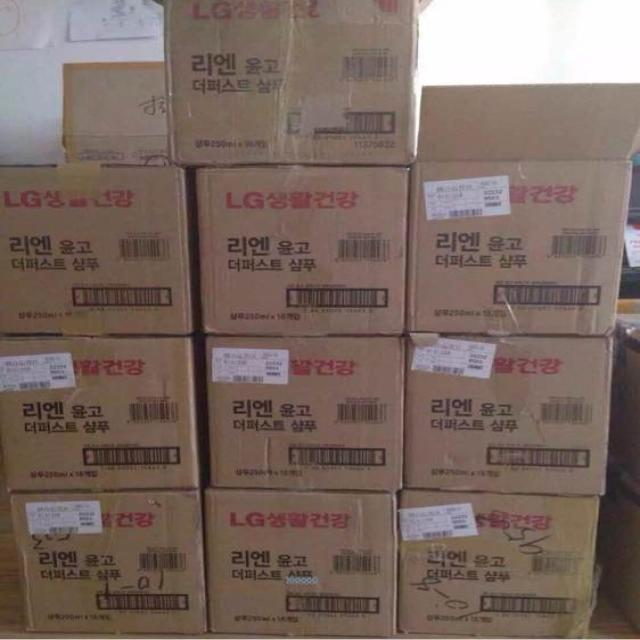box: (399, 84, 639, 336), (164, 2, 417, 166), (188, 164, 414, 335), (399, 333, 618, 495), (2, 166, 195, 336), (2, 331, 198, 492), (202, 335, 399, 493), (4, 484, 209, 634), (201, 485, 401, 634), (395, 489, 598, 635), (62, 62, 165, 164), (601, 436, 639, 637), (612, 311, 639, 474)
